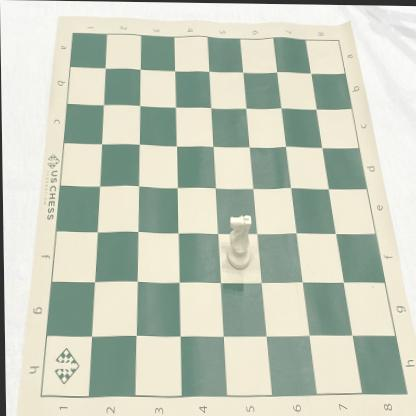white-knight: (225, 214, 252, 270)
